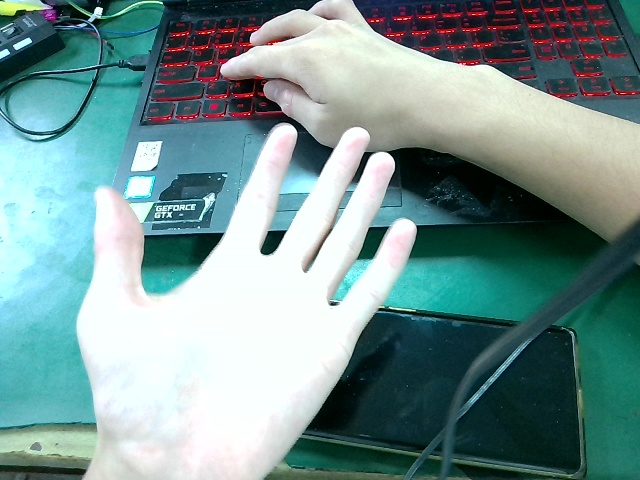paper: (69, 117, 424, 474)
